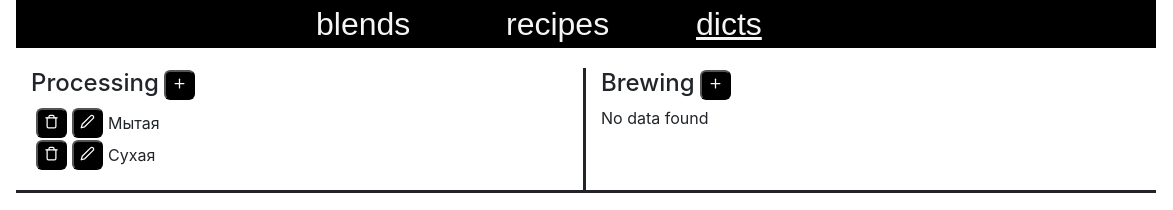
Test: dictionaries page spec › dictionary edit and delete value spec › should delete value
The width and height of the screenshot is (1173, 210).
Click the button without text next to "Brewing".
click(716, 85)  # box [700,70,731,100]
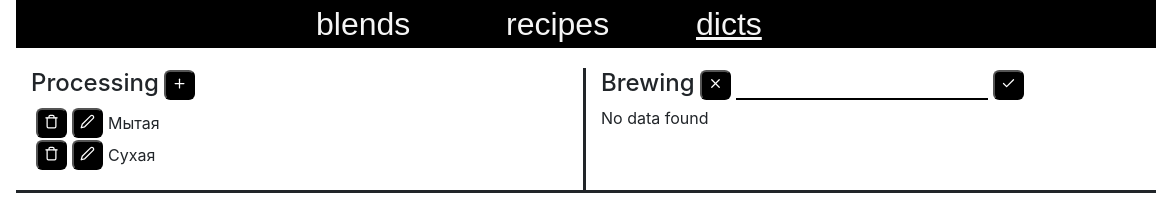
Type "brewing_type" into the field.
click(862, 86); type("brewing_type")  # box [736,72,988,100]
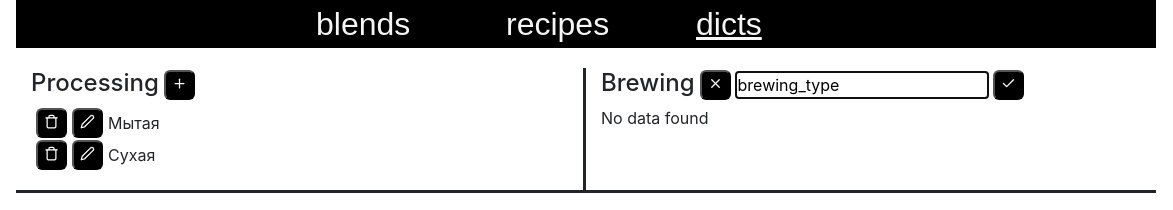
Click the button with test id "button_submit".
click(1009, 85)  # box [993,70,1024,100]
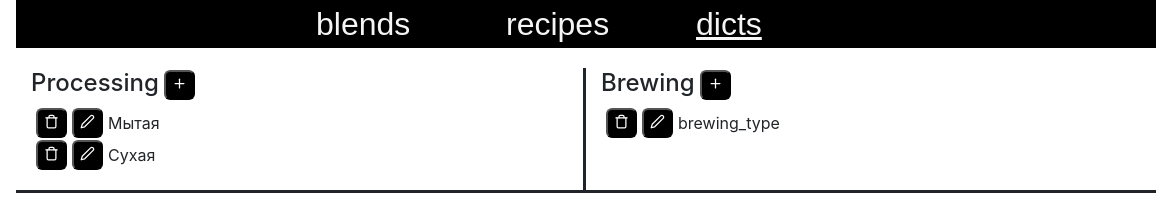
Click the button with test id "button_delete_Brewing".
click(622, 123)  # box [606,108,637,138]
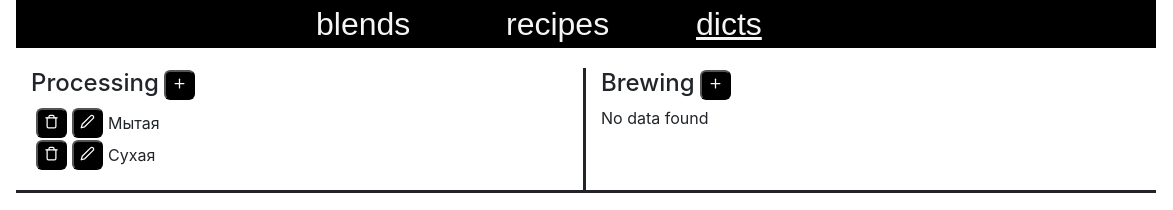
Result: the text "No data found" is shown at [601,108,708,128]
